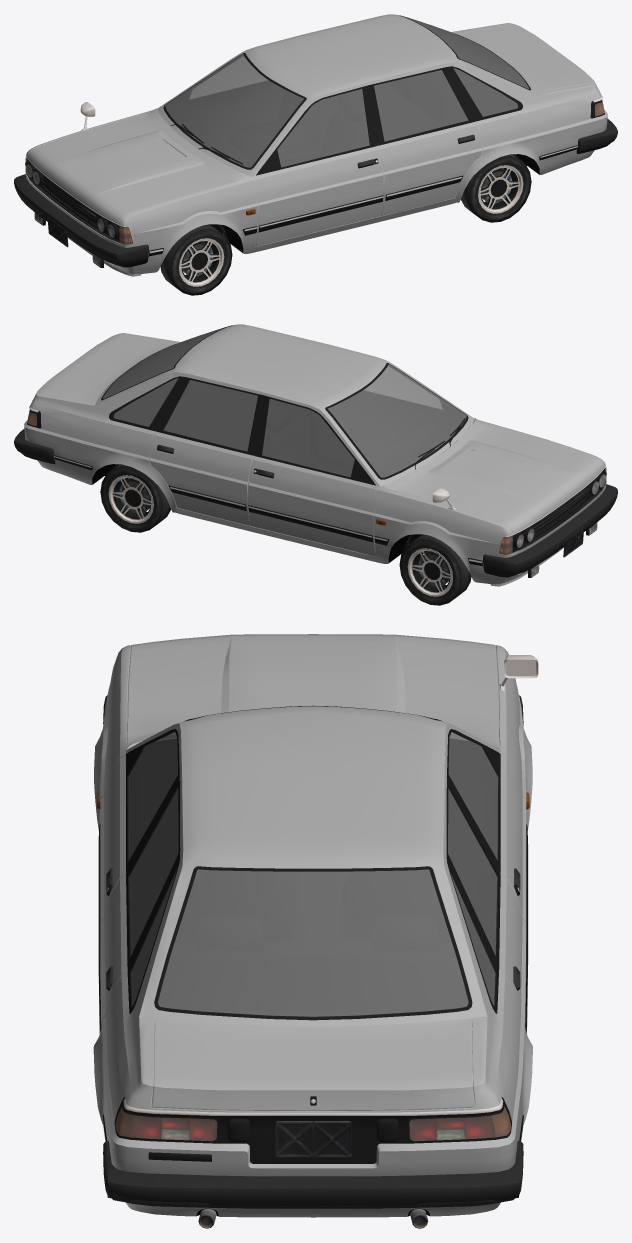
Rendered from kiri83.fbx.
3 renders of one model, top to bottom at view 1: azimuth 30°, elevation 25°; view 2: azimuth 150°, elevation 25°; view 3: azimuth 270°, elevation 25°, orthographic. The views are drawn at different scales.
Visible parts, largest first — view 1: body, windows, interior, bottom, wheels, lights; view 2: body, windows, interior, bottom, wheels, lights; view 3: body, windows, interior, bottom, lights.
Part boxes in pixels (x1,y1,x2,y2): body: [25, 14, 607, 276]; windows: [25, 17, 604, 244]; interior: [165, 18, 529, 167]; bottom: [14, 15, 617, 276]; wheels: [160, 154, 531, 295]; lights: [25, 101, 604, 267]; body: [24, 324, 606, 586]; windows: [27, 327, 606, 554]; interior: [102, 328, 466, 477]; bottom: [14, 325, 617, 586]; wheels: [100, 464, 471, 605]; lights: [27, 411, 606, 577]; body: [93, 634, 532, 1217]; windows: [115, 718, 510, 1141]; interior: [130, 739, 496, 1016]; bottom: [98, 655, 538, 1228]; lights: [97, 792, 529, 1141].
Bounding box in the file's own units: 180 × 52 × 66.86.
